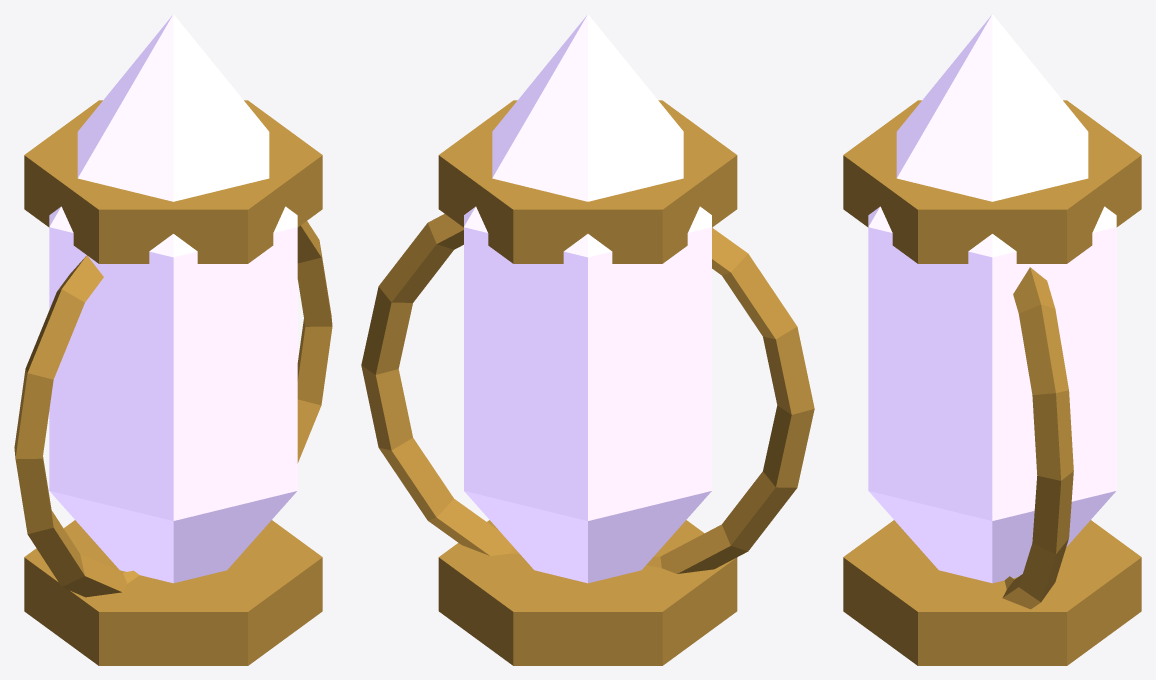
File: core.glb
The picture shows the model from 3 angles, left to right: view 1: azimuth 30°, elevation 25°; view 2: azimuth 150°, elevation 25°; view 3: azimuth 270°, elevation 25°; orthographic projection.
Visible parts, largest first — view 1: Crystal, Core end cap, Core end cap.001, Aether containment ring, Aether containment ring.001; view 2: Crystal, Core end cap, Core end cap.001, Aether containment ring, Aether containment ring.001; view 3: Crystal, Core end cap, Core end cap.001, Aether containment ring, Aether containment ring.001.
Boxes of the visible parts, bbox=[...] form: Crystal: bbox=[49, 14, 297, 583]; Core end cap: bbox=[24, 520, 322, 665]; Core end cap.001: bbox=[24, 100, 322, 263]; Aether containment ring: bbox=[15, 225, 332, 597]; Aether containment ring.001: bbox=[14, 221, 332, 594]; Crystal: bbox=[464, 14, 711, 583]; Core end cap: bbox=[438, 520, 737, 665]; Core end cap.001: bbox=[438, 100, 737, 263]; Aether containment ring: bbox=[361, 214, 805, 573]; Aether containment ring.001: bbox=[361, 228, 814, 573]; Crystal: bbox=[868, 14, 1116, 583]; Core end cap: bbox=[843, 520, 1141, 665]; Core end cap.001: bbox=[843, 100, 1141, 263]; Aether containment ring: bbox=[1003, 267, 1073, 609]; Aether containment ring.001: bbox=[1002, 267, 1073, 608].
Size of the model in its own units: 1.04 by 1.6 by 0.7.
